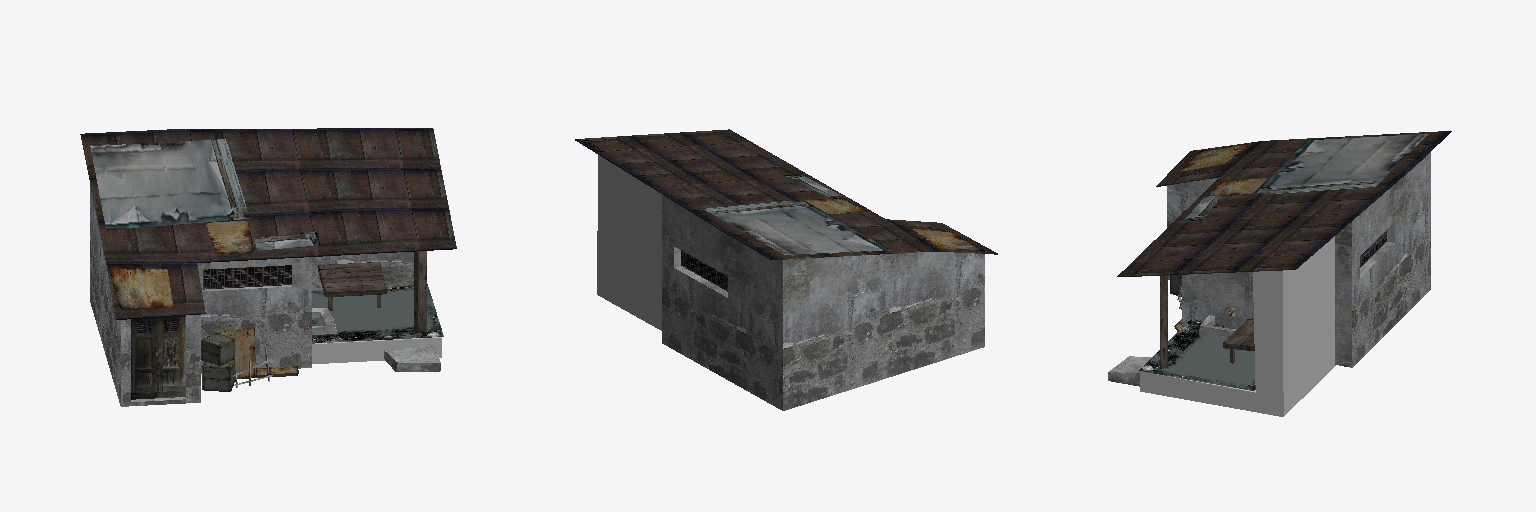
3 views of the same model, side by side, from view 1: azimuth 30°, elevation 25°; view 2: azimuth 150°, elevation 25°; view 3: azimuth 270°, elevation 25° (orthographic).
Bounding box in the file's own units: 271 × 114 × 218.
11 materials, 10 textured.